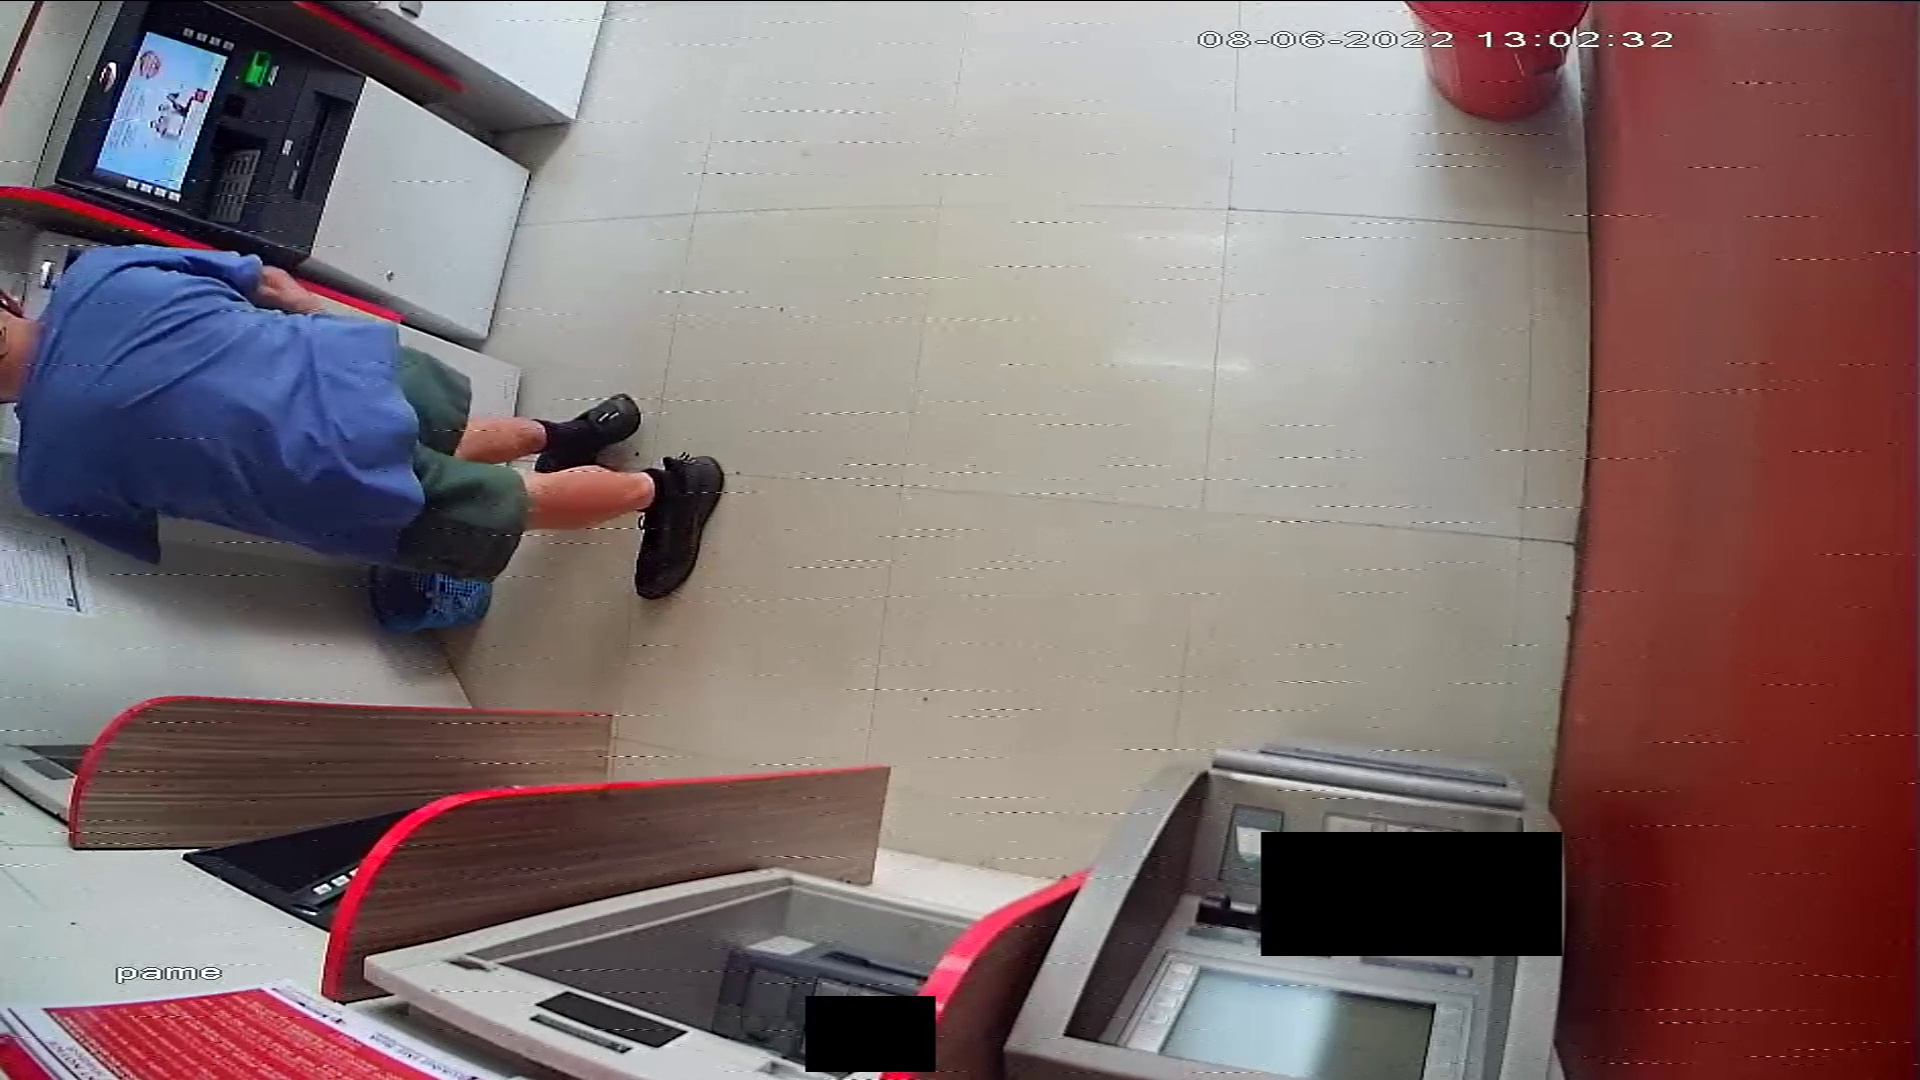person: (1, 240, 728, 600)
